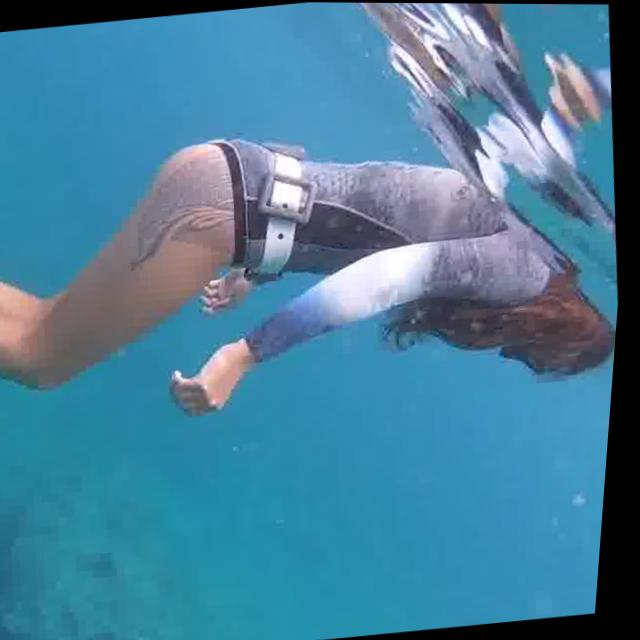human: (0, 86, 635, 457)
